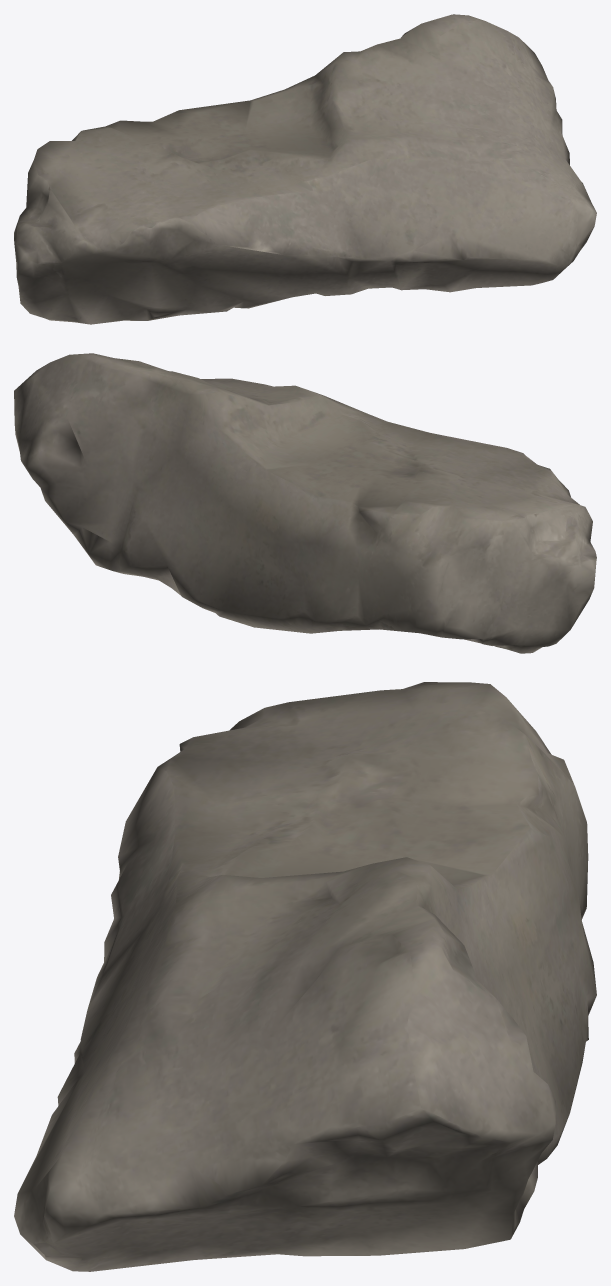
The model's file is surface-rock.glb.
The picture shows the model from 3 angles, top to bottom: view 1: azimuth 30°, elevation 25°; view 2: azimuth 150°, elevation 25°; view 3: azimuth 270°, elevation 25°; orthographic projection. The views are drawn at different scales.
Visible parts, largest first — view 1: SURFACE_ROCK_LOD3; view 2: SURFACE_ROCK_LOD3; view 3: SURFACE_ROCK_LOD3.
Boxes of the visible parts, x1,y1,x2,y2 form: SURFACE_ROCK_LOD3: [14, 14, 596, 324]; SURFACE_ROCK_LOD3: [14, 353, 596, 653]; SURFACE_ROCK_LOD3: [14, 682, 596, 1271].
Bounding box in the file's own units: 0.2119 × 0.0752 × 0.1116.
Materials: 1 (1 with a texture image).
